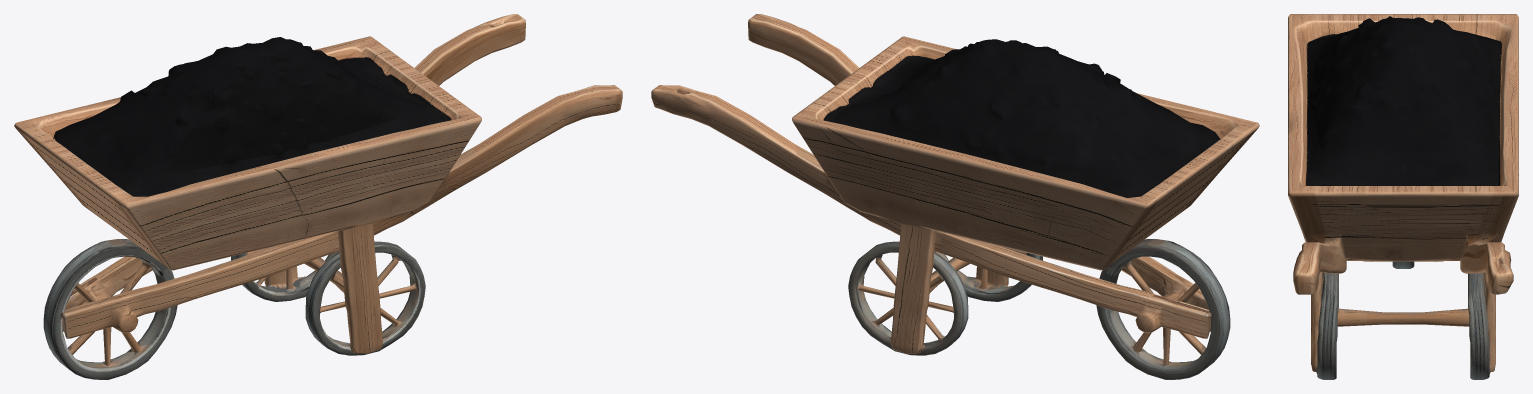
The model's file is estate_wheelbarrow.glb.
3 renders of one model, left to right at view 1: azimuth 30°, elevation 25°; view 2: azimuth 150°, elevation 25°; view 3: azimuth 270°, elevation 25°, orthographic. The views are drawn at different scales.
Size of the model in its own units: 1.91 by 1.03 by 0.7084.
1 material, 1 textured.
